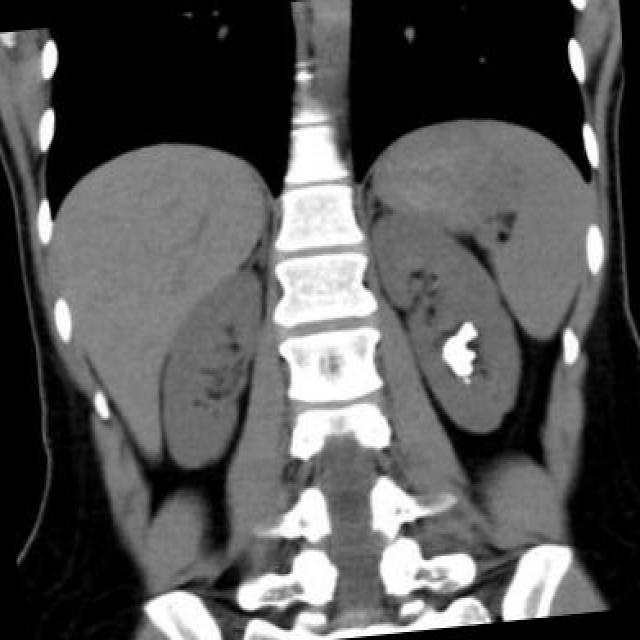Tas_Var: (436, 318, 489, 380), (461, 376, 474, 388)
